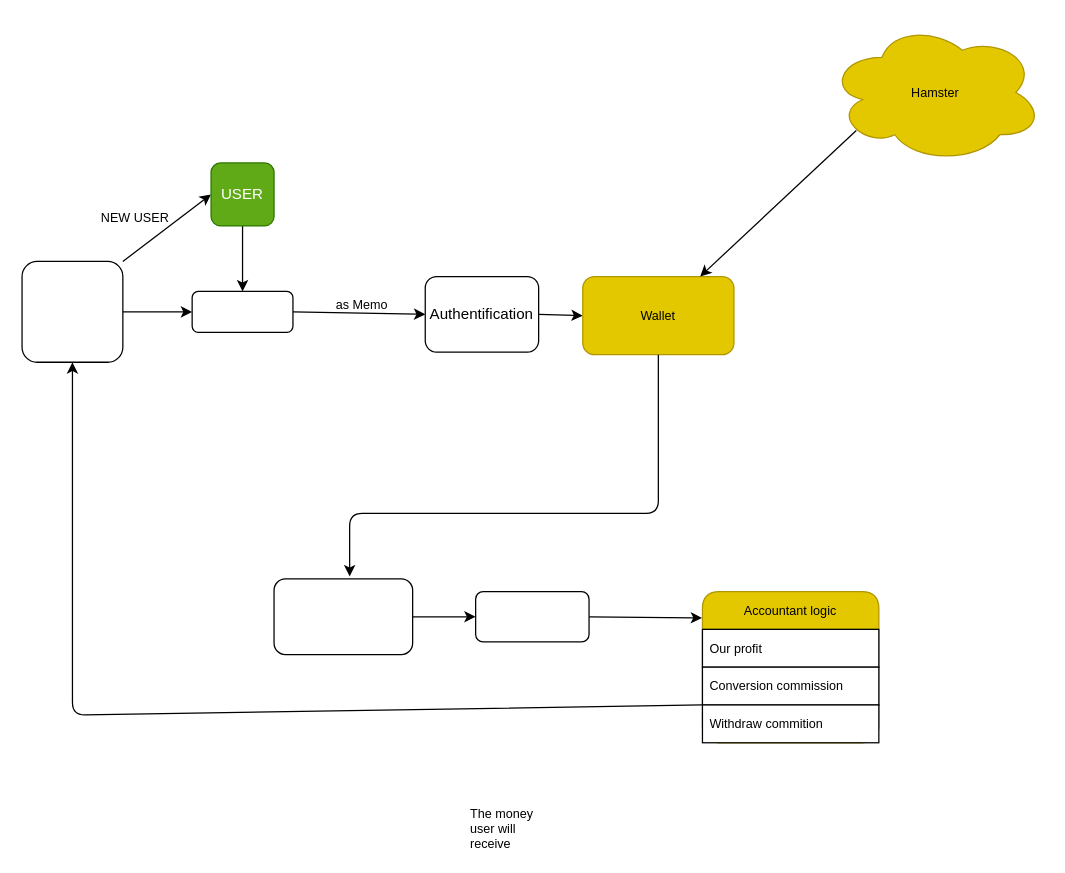
Some shapes in this 1065 by 873 pixel diagram are drawn without their labels. The box of each missing label's shape, as (x1, y1, x2, y2) in pixels:
Convertation Logic: (273, 578, 413, 655)
Main BOT: (21, 260, 123, 362)
TG user_id: (191, 290, 293, 332)
TON Api: (474, 590, 589, 642)
